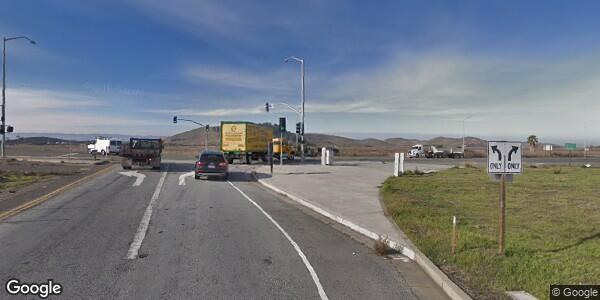Steel_Pole: (1, 32, 37, 161), (282, 53, 306, 163)
